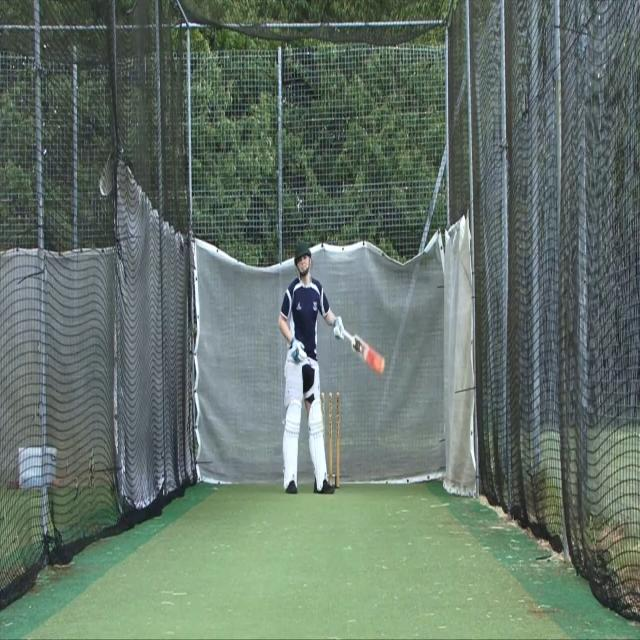batsman: (277, 240, 386, 496)
